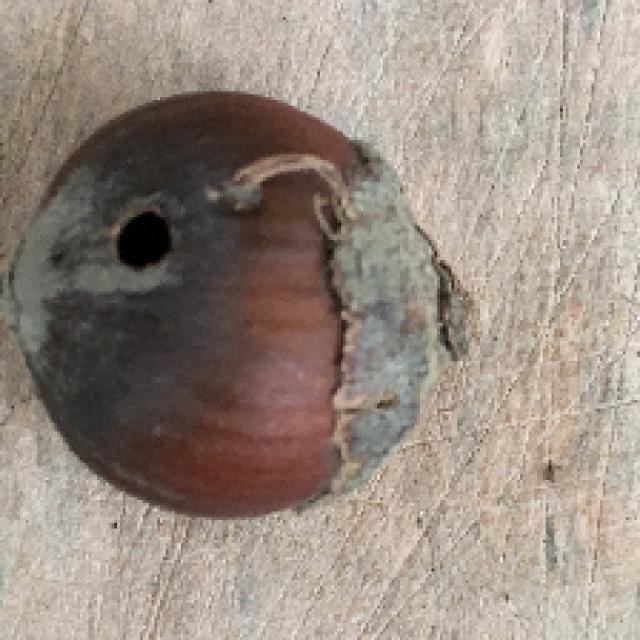damagedHazelnut: (15, 86, 463, 524)
